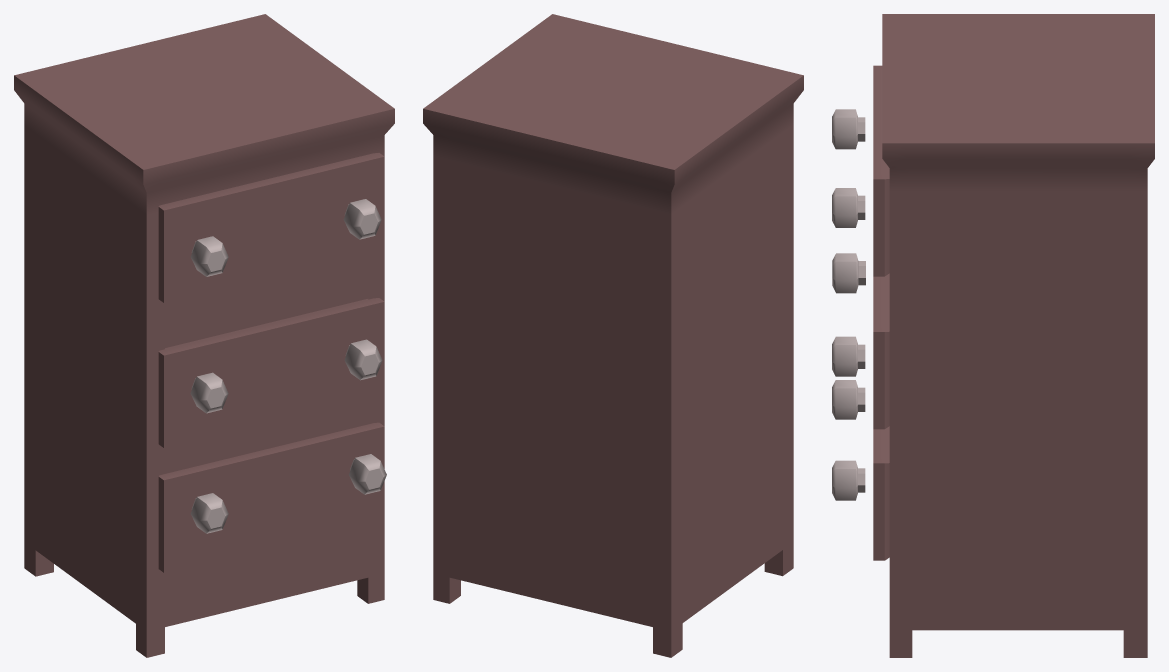
File: dresser000.fbx
3 views of the same model, side by side, from view 1: azimuth 30°, elevation 25°; view 2: azimuth 150°, elevation 25°; view 3: azimuth 270°, elevation 25° (orthographic). The views are drawn at different scales.
Visible parts, largest first — view 1: pCube2, pasted__pCube1 (×2), pCube1, DresserKnob3Left, dresserKnob1Left, DresserKnob2Left, dresserKnob1Right, DresserKnob2Right, dresserKnob3Right; view 2: pCube2; view 3: pCube2, pasted__pCube1 (×2), pCube1, dresserKnob1Left, DresserKnob2Left, dresserKnob3Right, DresserKnob2Right, dresserKnob1Right, DresserKnob3Left.
Part boxes in pixels (x1,y1,x2,y2): pCube2: [14, 14, 394, 657]; pasted__pCube1 (×2): [158, 298, 384, 572]; pCube1: [158, 153, 384, 302]; DresserKnob3Left: [190, 493, 228, 533]; dresserKnob1Left: [190, 236, 228, 276]; DresserKnob2Left: [190, 372, 228, 413]; dresserKnob1Right: [343, 199, 381, 239]; DresserKnob2Right: [344, 339, 382, 380]; dresserKnob3Right: [349, 454, 386, 494]; pCube2: [423, 14, 803, 657]; pCube2: [882, 14, 1154, 657]; pasted__pCube1 (×2): [873, 273, 889, 560]; pCube1: [873, 65, 889, 276]; dresserKnob1Left: [832, 109, 865, 149]; DresserKnob2Left: [832, 253, 865, 293]; dresserKnob3Right: [832, 460, 865, 500]; DresserKnob2Right: [832, 336, 865, 376]; dresserKnob1Right: [832, 188, 865, 227]; DresserKnob3Left: [832, 380, 865, 419].
Bounding box in the file's own units: 0.9884 × 1.85 × 1.04.
